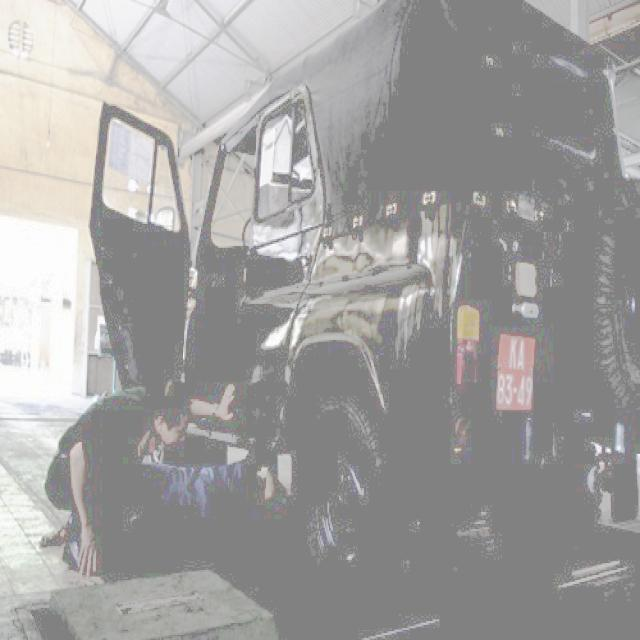license_plate: (494, 333, 538, 411)
